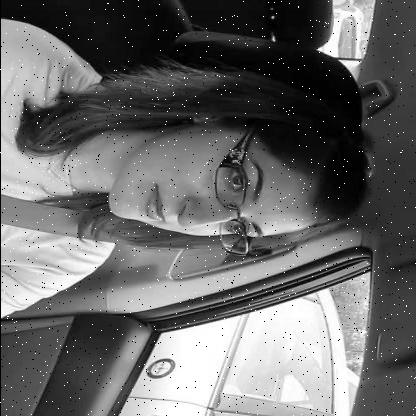seatbelt: (0, 54, 378, 276)
